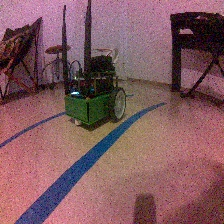rob: (62, 54, 127, 127)
